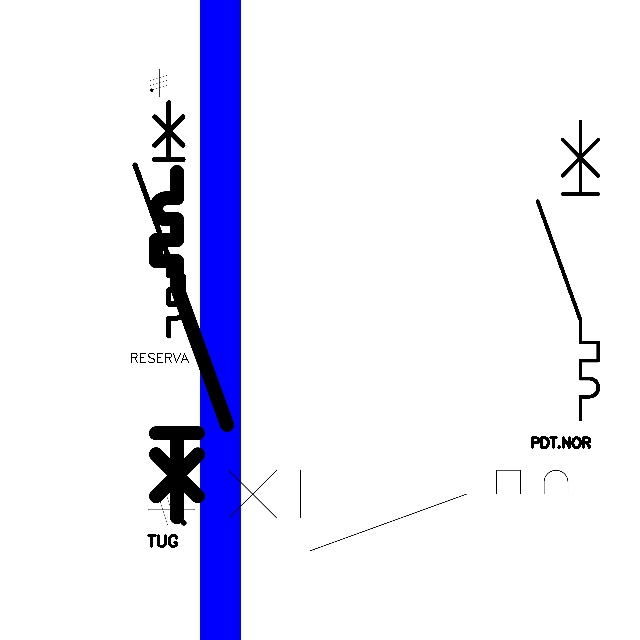interruptor_termomagnetico: (194, 460, 607, 561), (147, 163, 236, 526), (530, 114, 606, 427), (129, 96, 189, 341)
